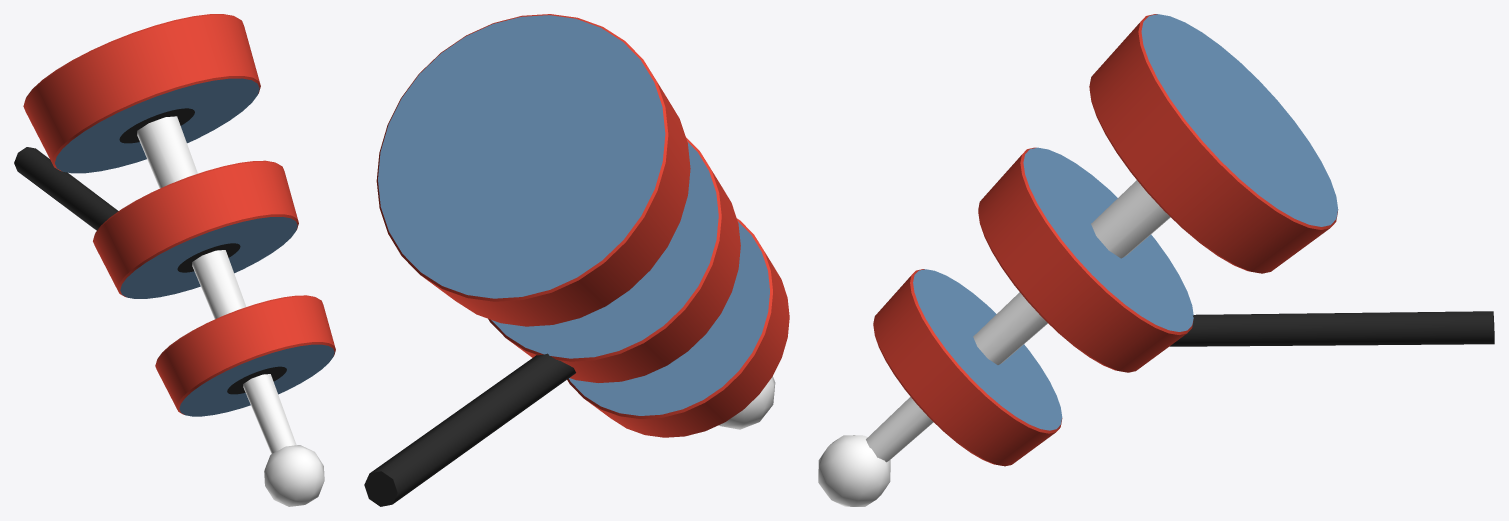
The model's file is coil_shoot.fbx.
The picture shows the model from 3 angles, left to right: view 1: azimuth 30°, elevation 25°; view 2: azimuth 150°, elevation 25°; view 3: azimuth 270°, elevation 25°; orthographic projection. The views are drawn at different scales.
Parts seen in each view (by area): view 1: coil; view 2: coil; view 3: coil.
Part boxes in pixels (x1,y1,x2,y2): coil: (14,14,335,506); coil: (364,14,789,506); coil: (818,14,1494,506).
Bounding box in the file's own units: 1.06 × 1.96 × 2.55.
